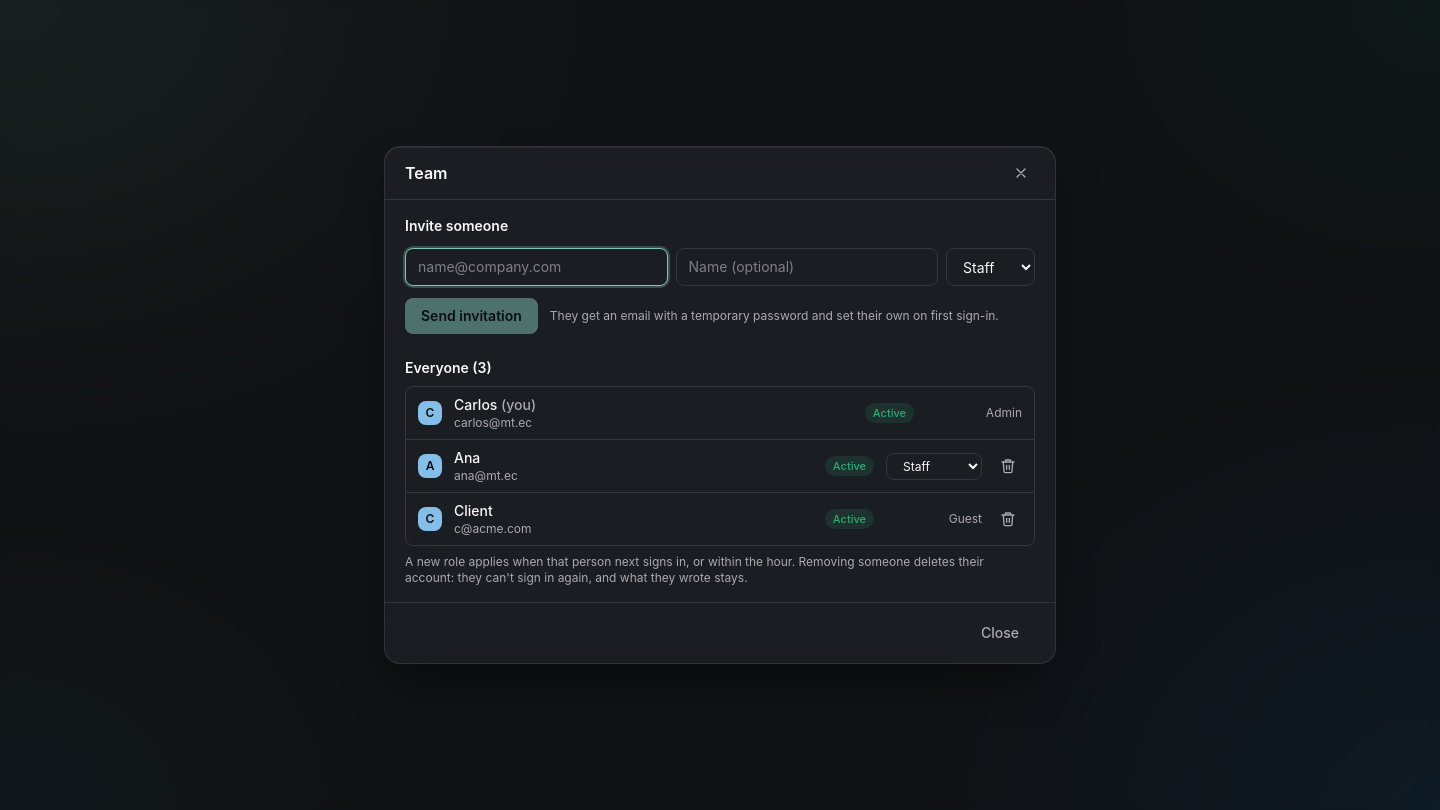
Test case: Settings → Team (Phase 62) › shows why an invitation failed
The image size is (1440, 810).
Expected: the text "Ana" is shown, 454,449 -> 480,466
Type "ana@mt.ec" into the field named "Email" at (536, 267), box 405,248 -> 668,286
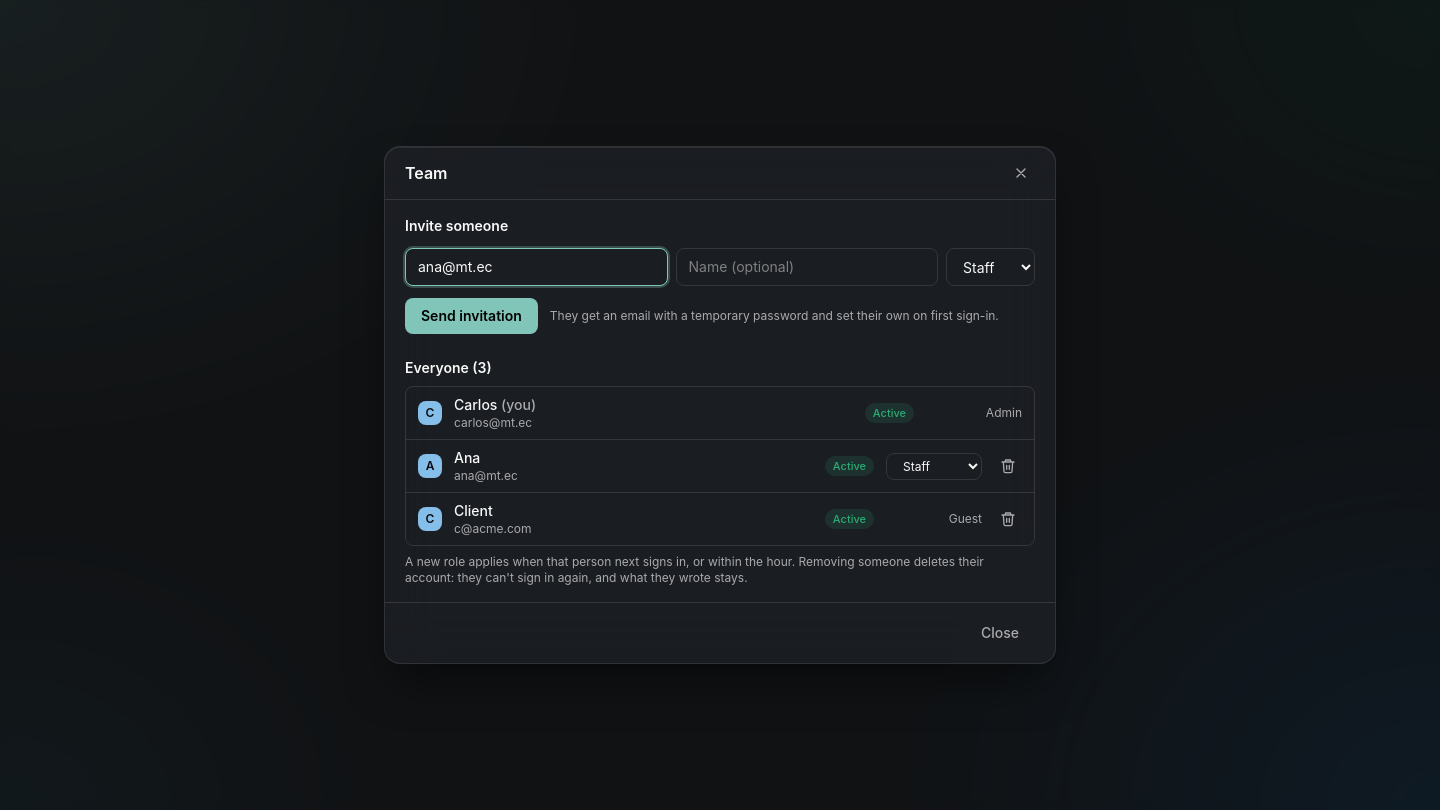
Click the button "Send invitation" at (471, 316), box 405,298 -> 538,334
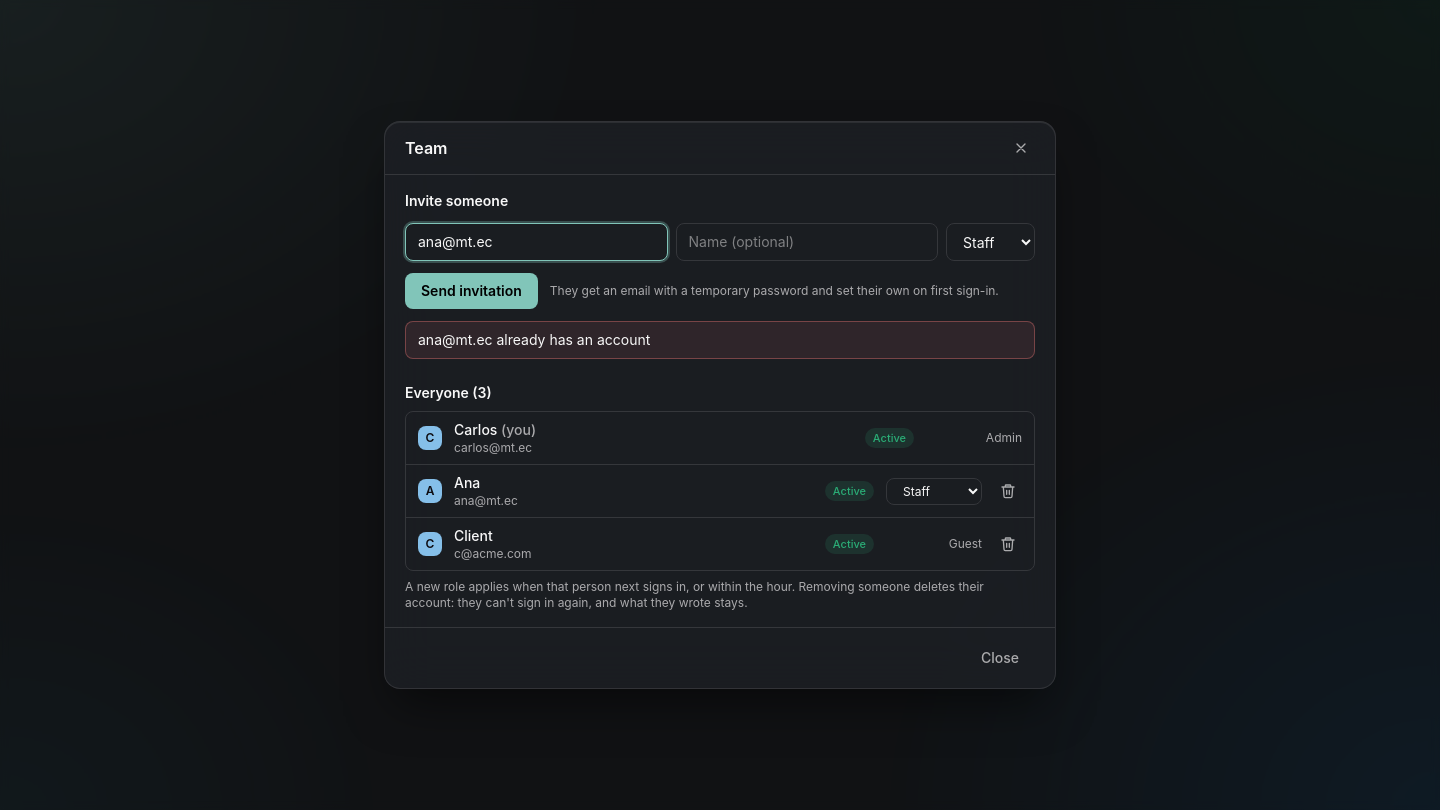
Result: the message shows "already has an account" at 418,331 -> 650,348
